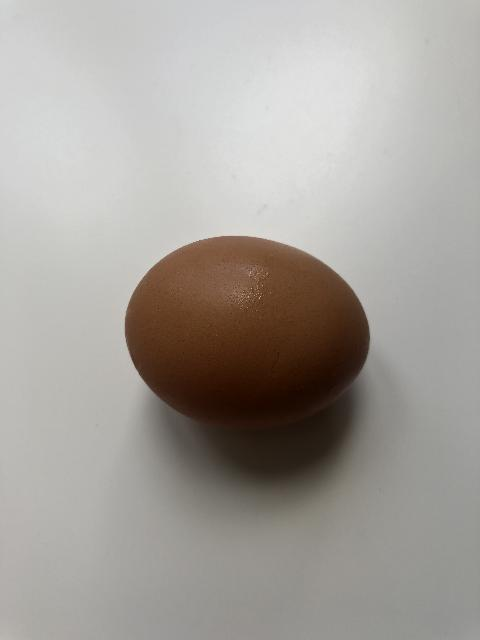Sano: (123, 233, 371, 431)
